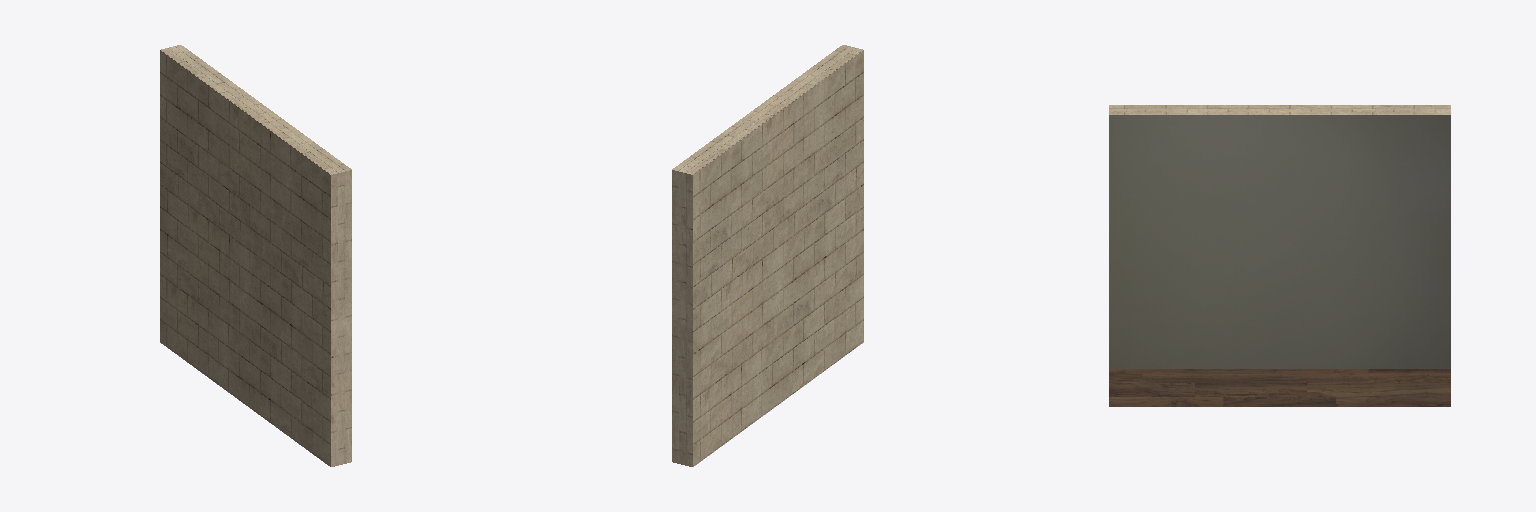
The picture shows the model from 3 angles: view 1: azimuth 30°, elevation 25°; view 2: azimuth 150°, elevation 25°; view 3: azimuth 270°, elevation 25°; orthographic projection.
Visible parts, largest first — view 1: Box01; view 2: Box01; view 3: Box01.
Boxes of the visible parts, x1=… form: Box01: x1=160, y1=45, x2=351, y2=466; Box01: x1=672, y1=45, x2=863, y2=466; Box01: x1=1109, y1=105, x2=1450, y2=406.
Bounding box in the file's own units: 8.62 × 113 × 120.
Materials: 1 (1 with a texture image).